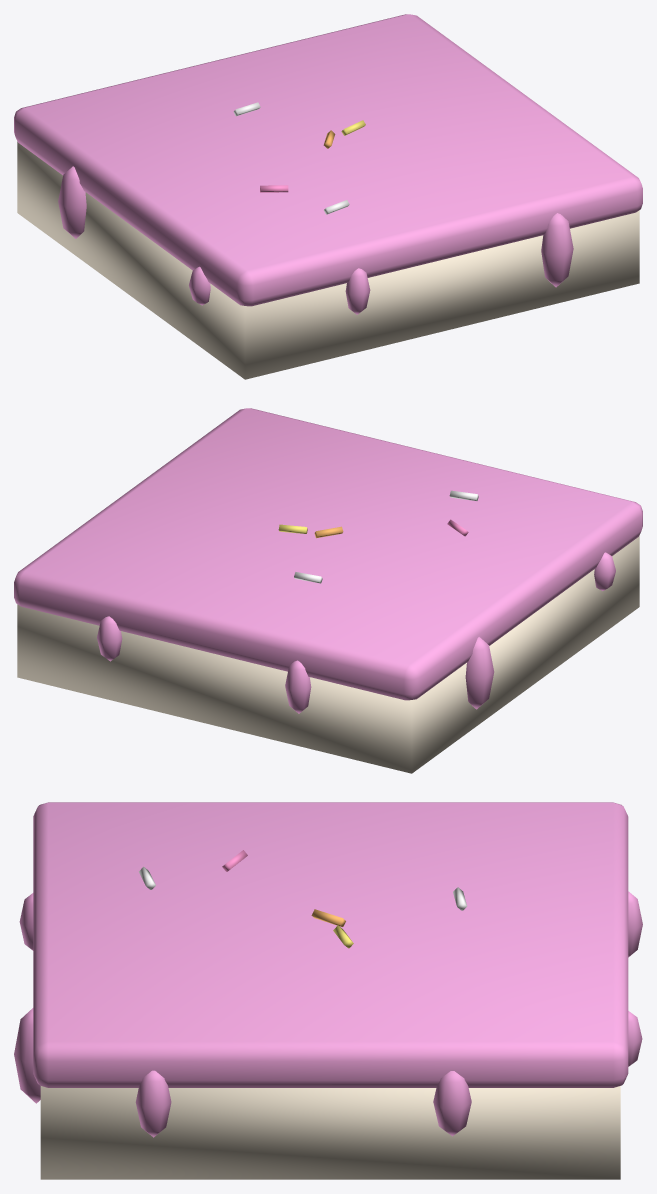
Rendered from bg_tile_lilac2.glb.
3 renders of one model, top to bottom at view 1: azimuth 30°, elevation 25°; view 2: azimuth 150°, elevation 25°; view 3: azimuth 270°, elevation 25°, orthographic. The views are drawn at different scales.
Parts seen in each view (by area): view 1: M_Tile_lilac2__t_top_lilac2, M_Tile_lilac2__t_side_lilac2; view 2: M_Tile_lilac2__t_top_lilac2, M_Tile_lilac2__t_side_lilac2; view 3: M_Tile_lilac2__t_top_lilac2, M_Tile_lilac2__t_side_lilac2.
Part boxes in pixels (left/top/right/bottom): M_Tile_lilac2__t_top_lilac2: left=14, top=14, right=642, bottom=314; M_Tile_lilac2__t_side_lilac2: left=17, top=141, right=639, bottom=379; M_Tile_lilac2__t_top_lilac2: left=14, top=408, right=642, bottom=713; M_Tile_lilac2__t_side_lilac2: left=17, top=535, right=639, bottom=773; M_Tile_lilac2__t_top_lilac2: left=14, top=802, right=642, bottom=1137; M_Tile_lilac2__t_side_lilac2: left=40, top=1086, right=620, bottom=1179.
Bounding box in the file's own units: 4.2 × 1.06 × 4.23.
